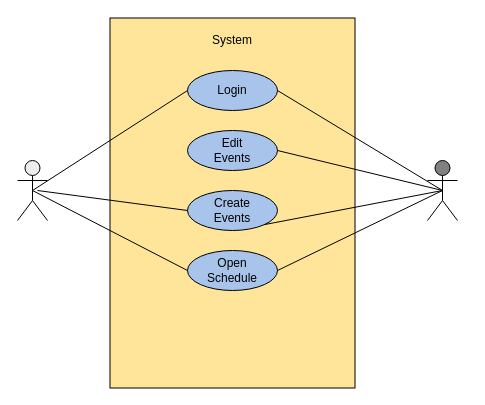
This 485x405 diagram has some shape labels left out. Here are the shapes that lost their labels. From the top down, the centre of each, then its label:
[32,190]: User
[442,190]: Instructor
